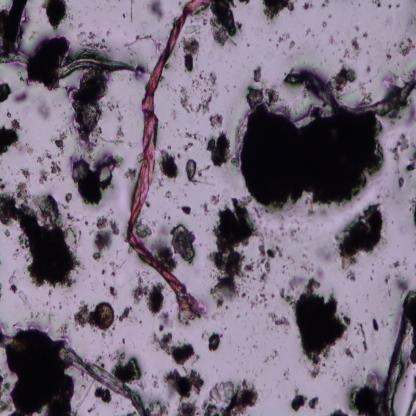Background material: (233, 106, 385, 208), (0, 179, 88, 289), (289, 275, 351, 378), (10, 326, 74, 415), (215, 198, 259, 304), (336, 201, 385, 270), (68, 67, 109, 145), (203, 376, 259, 416), (70, 155, 116, 203), (26, 36, 68, 85), (150, 324, 198, 365), (178, 70, 218, 115), (0, 0, 29, 54), (130, 276, 167, 316), (210, 3, 243, 47), (254, 246, 276, 310), (92, 214, 120, 262), (350, 376, 385, 414), (165, 368, 205, 398), (173, 223, 197, 267), (122, 28, 161, 52), (207, 131, 231, 167), (76, 29, 108, 56), (0, 117, 22, 156), (329, 65, 357, 95), (42, 0, 69, 31), (386, 260, 410, 294), (245, 85, 278, 107), (114, 357, 141, 383), (158, 146, 178, 180), (73, 300, 94, 330), (259, 2, 296, 19), (154, 242, 176, 270), (182, 36, 198, 72), (10, 276, 29, 306), (175, 397, 203, 416), (0, 366, 12, 410), (392, 132, 408, 162), (269, 310, 291, 330), (128, 59, 146, 81), (136, 219, 154, 240), (185, 157, 199, 184), (92, 386, 113, 404), (278, 286, 295, 308), (344, 39, 362, 59), (206, 331, 222, 353), (398, 37, 416, 56), (278, 31, 296, 50), (360, 81, 373, 107), (117, 304, 133, 324), (148, 0, 164, 20), (358, 324, 369, 352), (145, 402, 167, 416), (407, 194, 416, 228), (185, 130, 206, 144), (405, 146, 416, 172), (115, 111, 125, 139), (291, 394, 306, 412), (54, 133, 68, 152), (123, 166, 139, 182), (210, 112, 224, 130), (0, 82, 12, 103), (328, 404, 349, 416), (38, 101, 52, 119), (263, 353, 280, 367), (37, 150, 54, 164), (13, 88, 28, 103), (18, 167, 32, 182), (345, 268, 358, 284), (273, 242, 286, 258), (49, 160, 62, 176), (184, 23, 201, 35), (252, 67, 264, 83), (308, 395, 320, 410), (344, 347, 355, 361), (164, 187, 174, 202), (38, 169, 48, 184), (212, 305, 221, 321), (372, 318, 380, 336), (386, 42, 394, 60), (328, 35, 338, 49), (302, 2, 315, 12), (109, 284, 118, 298), (371, 0, 383, 10), (181, 205, 192, 215), (398, 176, 407, 188), (64, 192, 72, 203), (319, 1, 330, 9), (47, 290, 55, 300), (100, 268, 108, 277), (6, 111, 14, 120), (4, 229, 11, 238), (363, 30, 369, 39), (322, 20, 328, 28)
Cellulose filter fibre: (284, 69, 416, 116), (58, 345, 146, 415), (385, 291, 416, 416), (0, 49, 134, 77)
Cotton: (126, 1, 205, 317)
Diatom: (94, 302, 115, 330)
